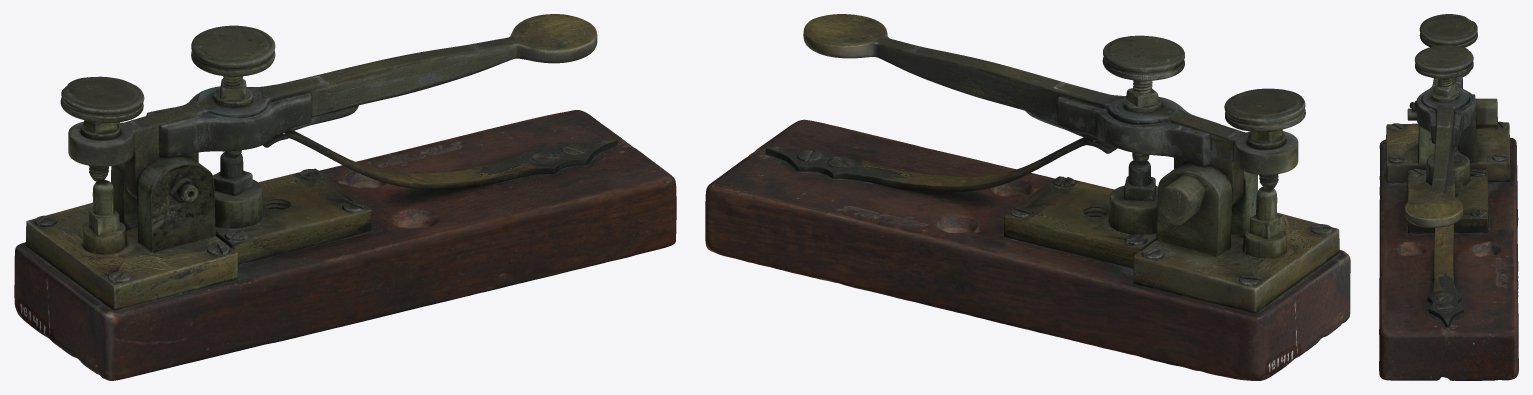
Rendered from museum_telegraph.glb.
3 renders of one model, left to right at view 1: azimuth 30°, elevation 25°; view 2: azimuth 150°, elevation 25°; view 3: azimuth 270°, elevation 25°, orthographic. The views are drawn at different scales.
Size of the model in its own units: 169 by 76.53 by 50.83.
1 material, 1 textured.
